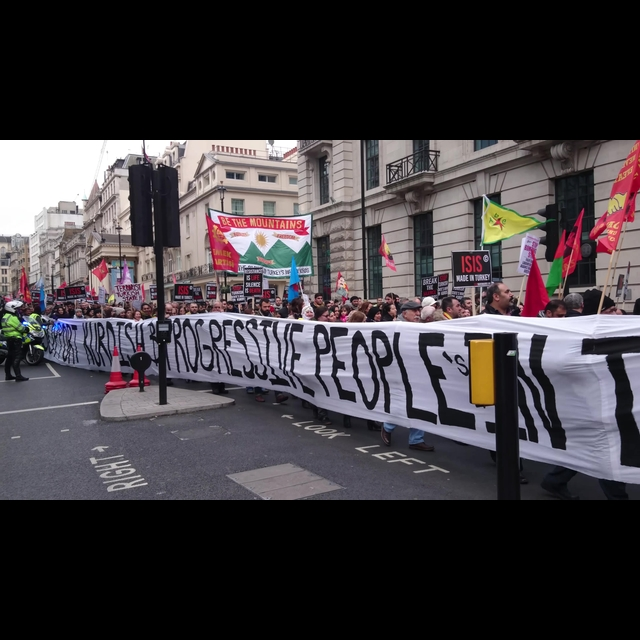YPG: (485, 204, 515, 238)
